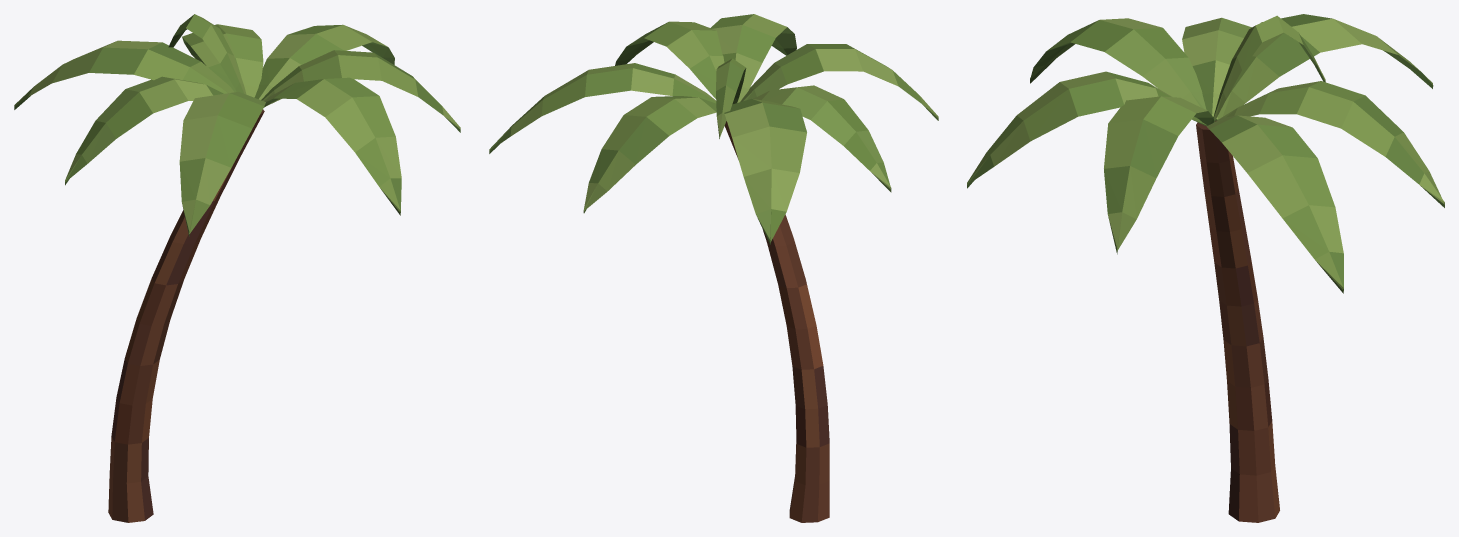
File: t03_windswept_lean.glb
3 views of the same model, side by side, from view 1: azimuth 30°, elevation 25°; view 2: azimuth 150°, elevation 25°; view 3: azimuth 270°, elevation 25° (orthographic). The views are drawn at different scales.
Parts seen in each view (by area): view 1: T03_palm; view 2: T03_palm; view 3: T03_palm.
Boxes of the visible parts, x1,y1,x2,y2 form: T03_palm: [14, 14, 460, 522]; T03_palm: [489, 14, 938, 522]; T03_palm: [967, 14, 1444, 522].
Size of the model in its own units: 2.43 by 2.9 by 2.34.
